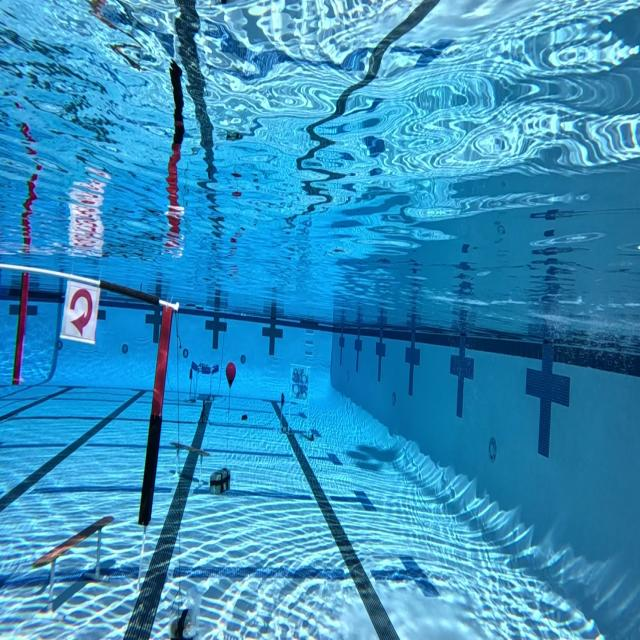red_side: (59, 276, 102, 345)
